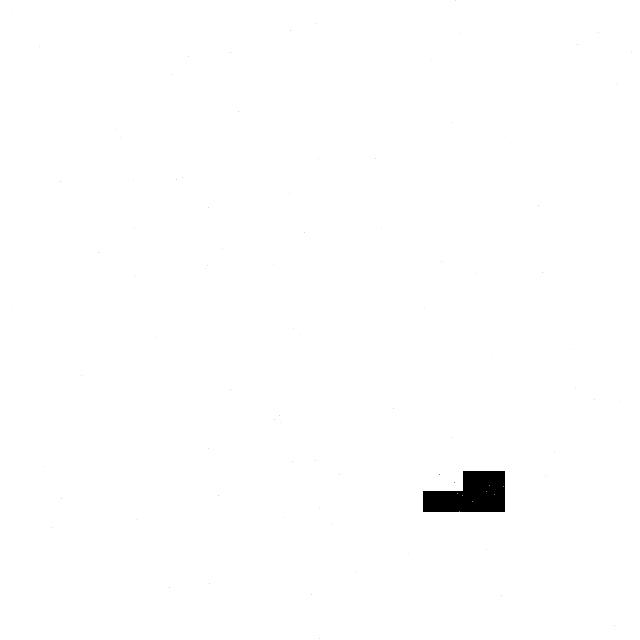weapon: (423, 491, 504, 531)
